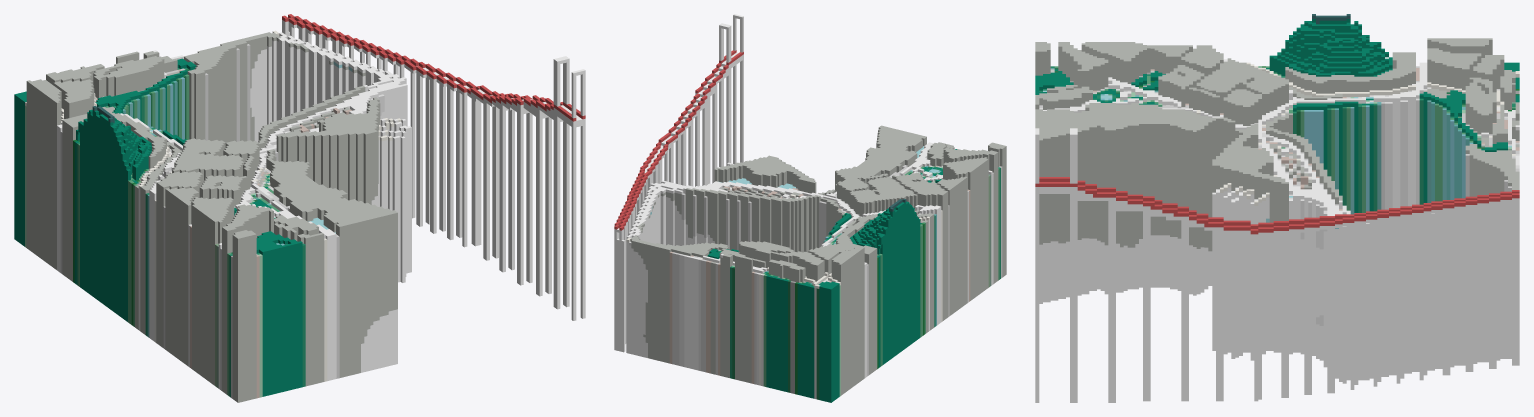
The model's file is 200610 magicvoxel1-13.obj.
3 views of the same model, side by side, from view 1: azimuth 30°, elevation 25°; view 2: azimuth 150°, elevation 25°; view 3: azimuth 270°, elevation 25° (orthographic). The views are drawn at different scales.
Size of the model in its own units: 11.3 by 7.7 by 12.6.
Materials: 1 (1 with a texture image).
